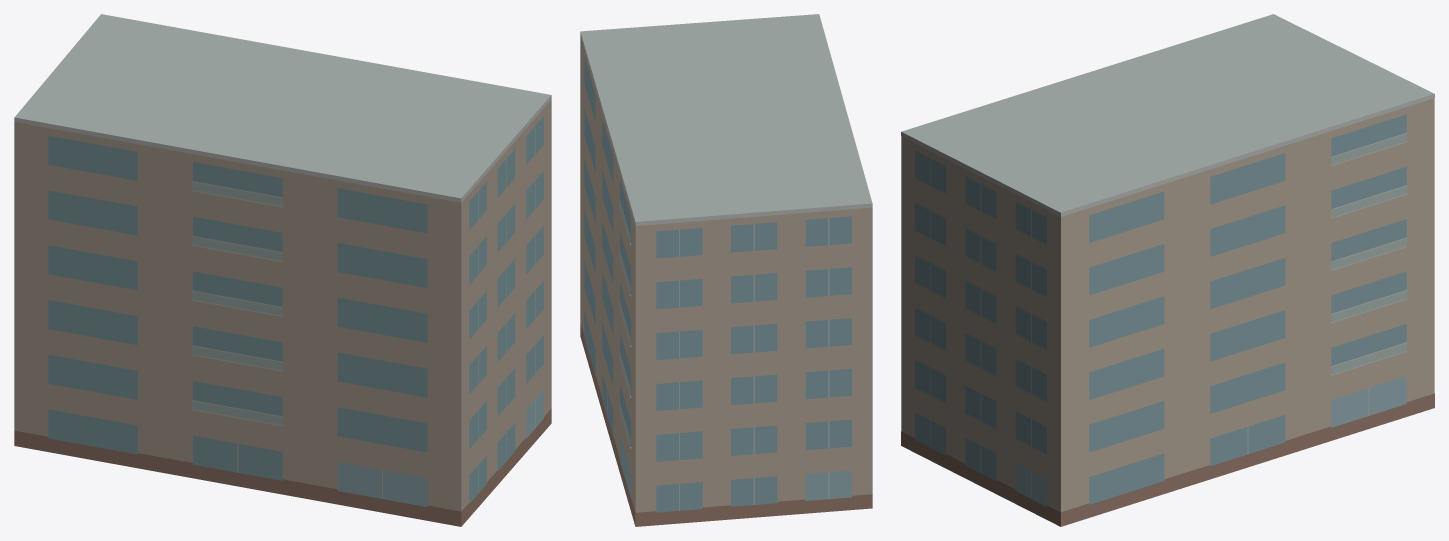
The model's file is survey-upis-32643458.glb.
3 views of the same model, side by side, from view 1: azimuth 30°, elevation 25°; view 2: azimuth 150°, elevation 25°; view 3: azimuth 270°, elevation 25° (orthographic). The views are drawn at different scales.
Parts seen in each view (by area): view 1: survey-upis-32643458.tmp; view 2: survey-upis-32643458.tmp; view 3: survey-upis-32643458.tmp.
Part boxes in pixels (x1,y1,x2,y2): survey-upis-32643458.tmp: (14, 14, 551, 526); survey-upis-32643458.tmp: (580, 14, 872, 526); survey-upis-32643458.tmp: (901, 14, 1434, 526).
Bounding box in the file's own units: 24.43 × 18 × 27.72.
